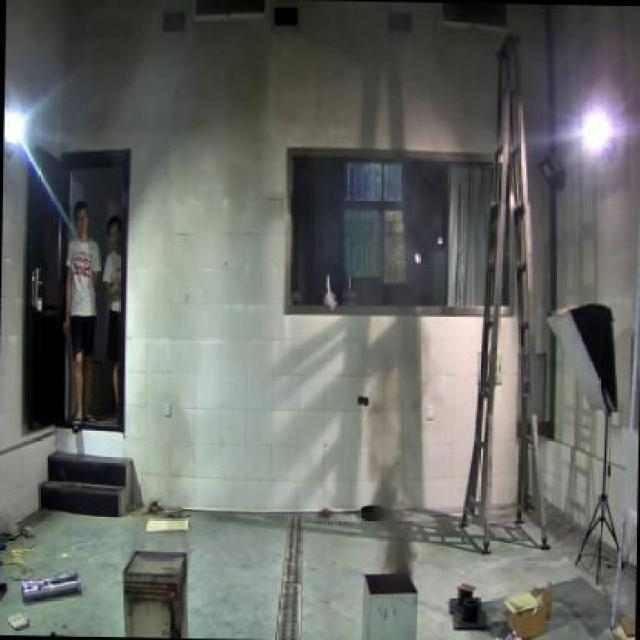fire: (358, 278, 464, 571)
